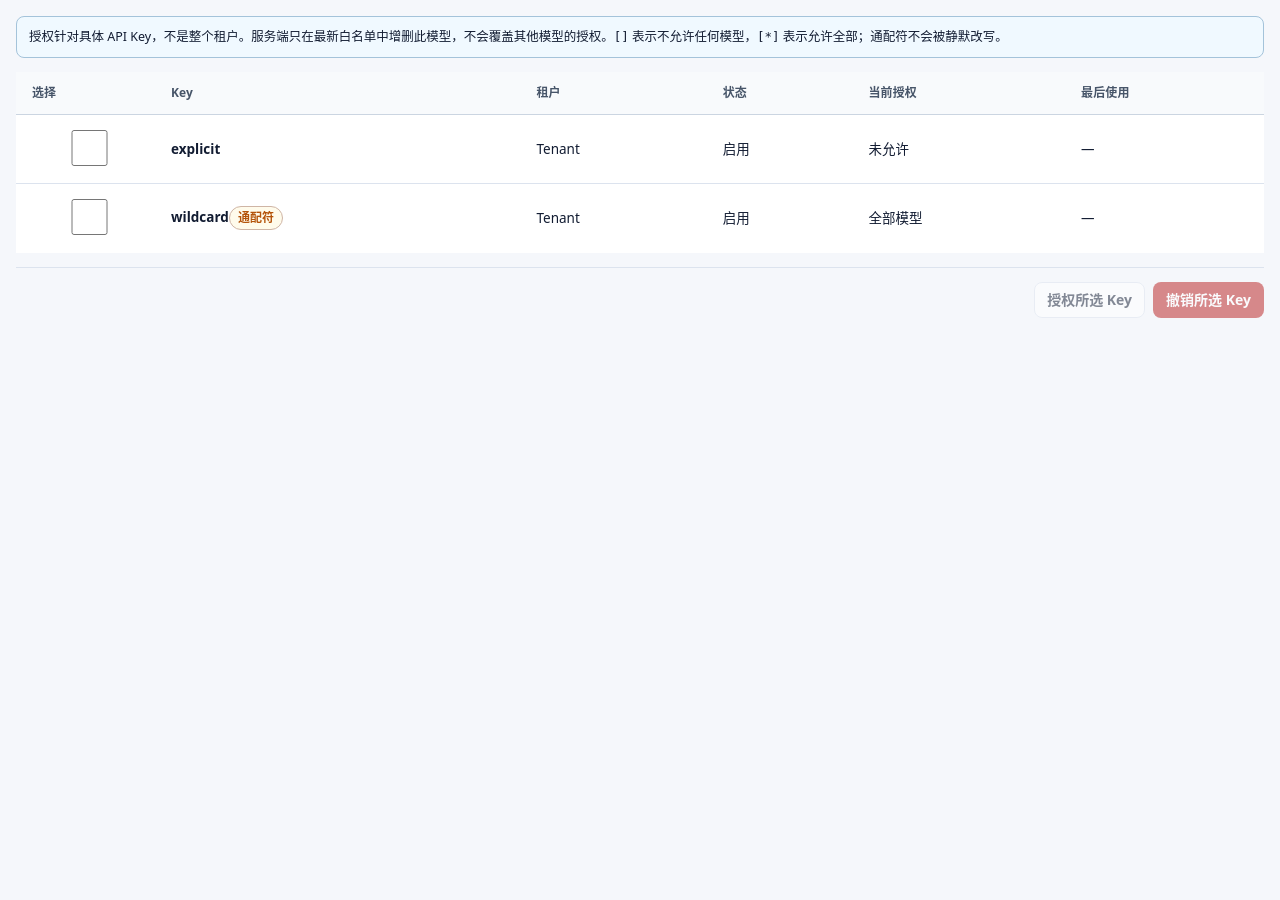
Test: ModelAuthorizationPanel › merges a model into one key and reports wildcard refusal per key
Check: the text "explicit" is shown, box [171,140,220,158]
Click the checkbox named "选择 Key explicit" at (90, 148), box [36,130,143,166]
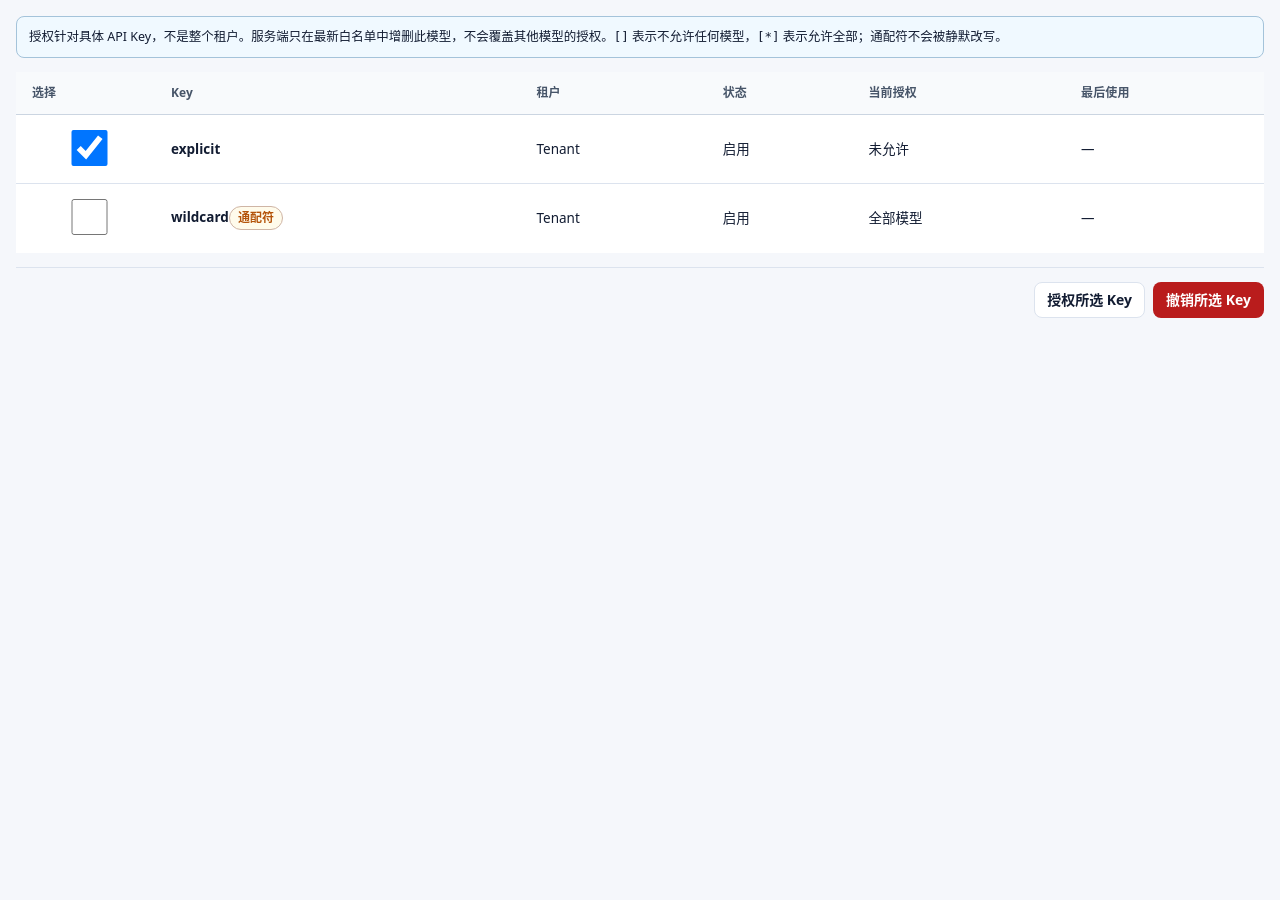
Click the button "授权所选 Key" at (1090, 300), box [1034,282,1145,318]
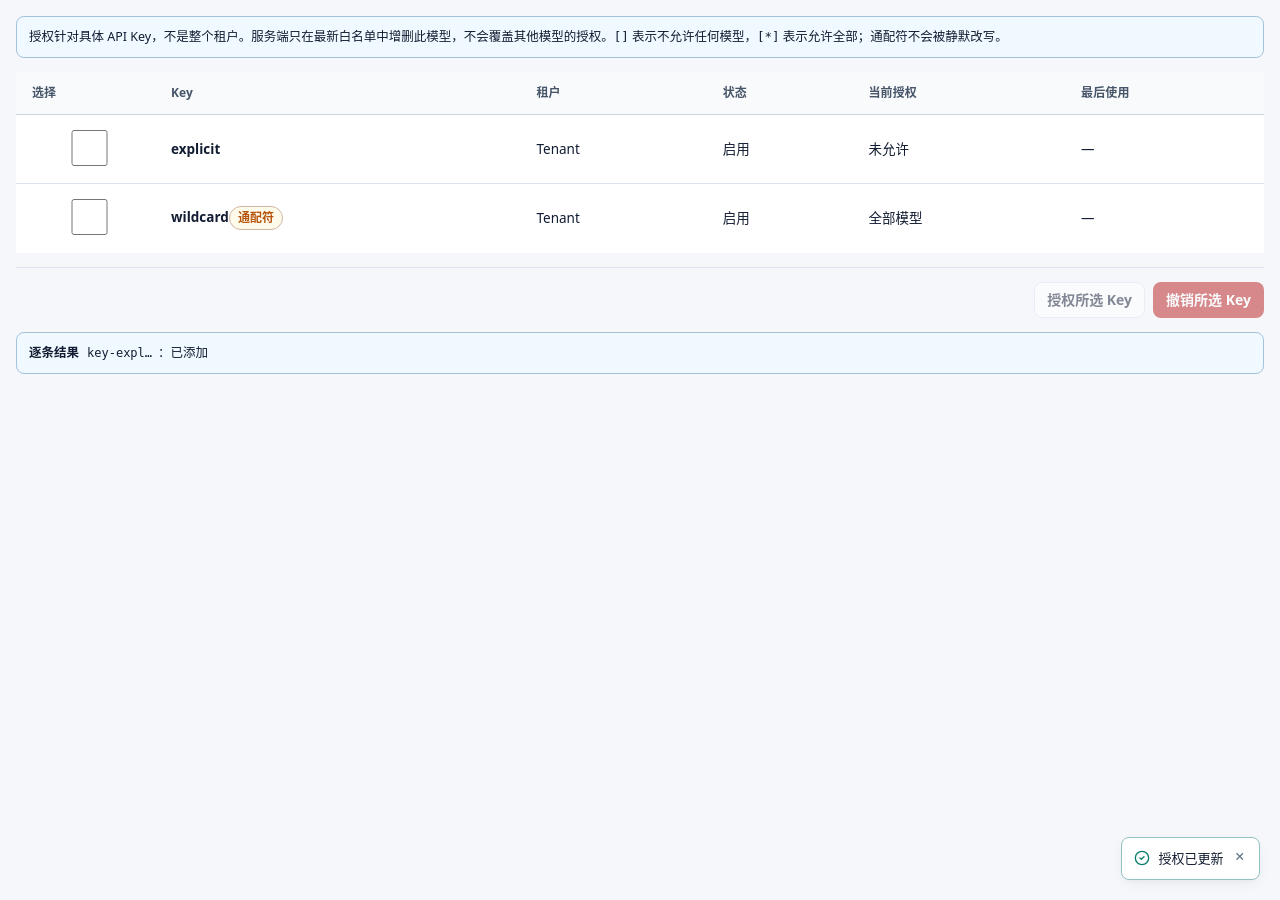
Check: the list item "key-expl… ：已添加" is shown, box [87,342,208,363]
Click the checkbox named "选择 Key wildcard" at (90, 217), box [36,199,143,235]
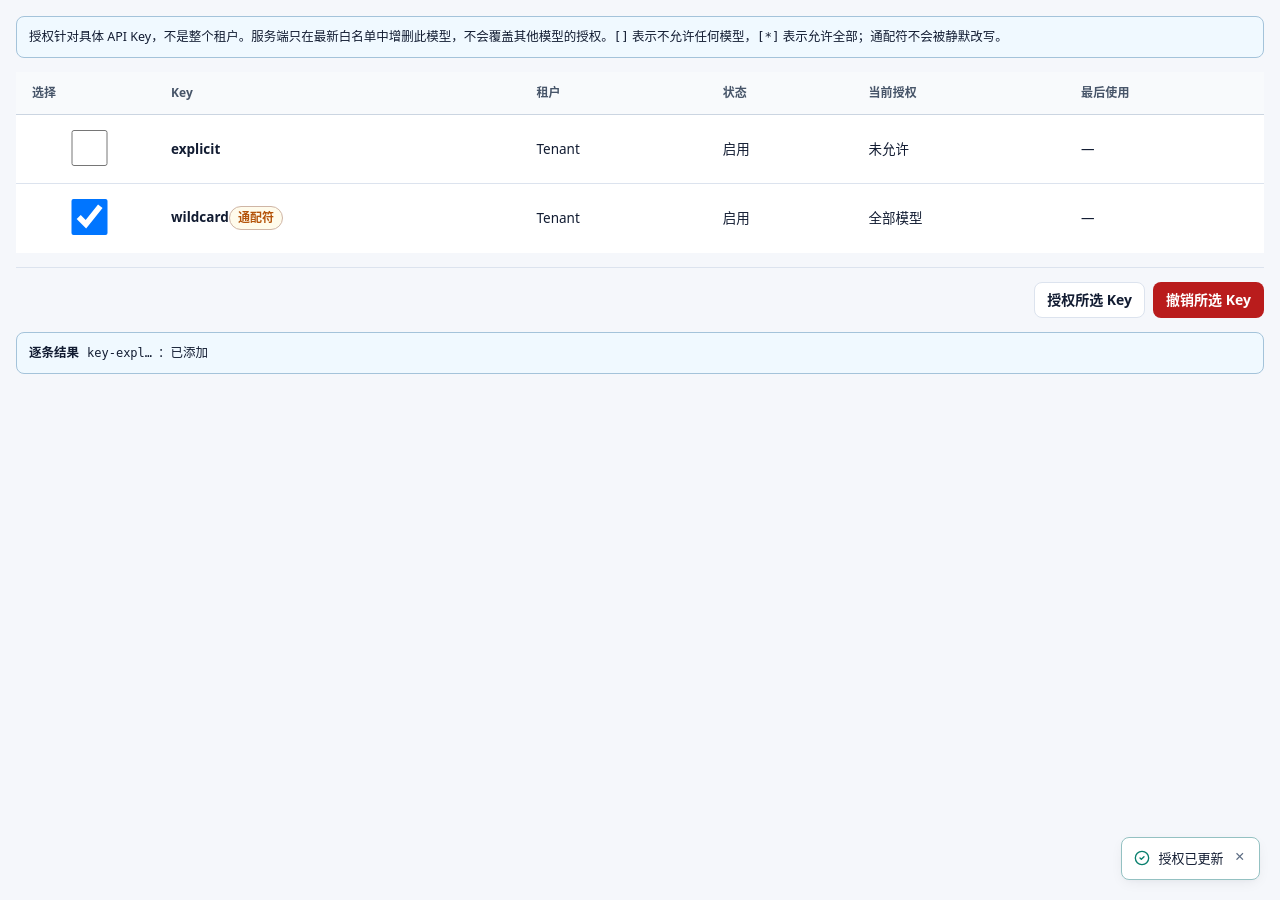
Click the button "撤销所选 Key" at (1209, 300), box [1153,282,1264,318]
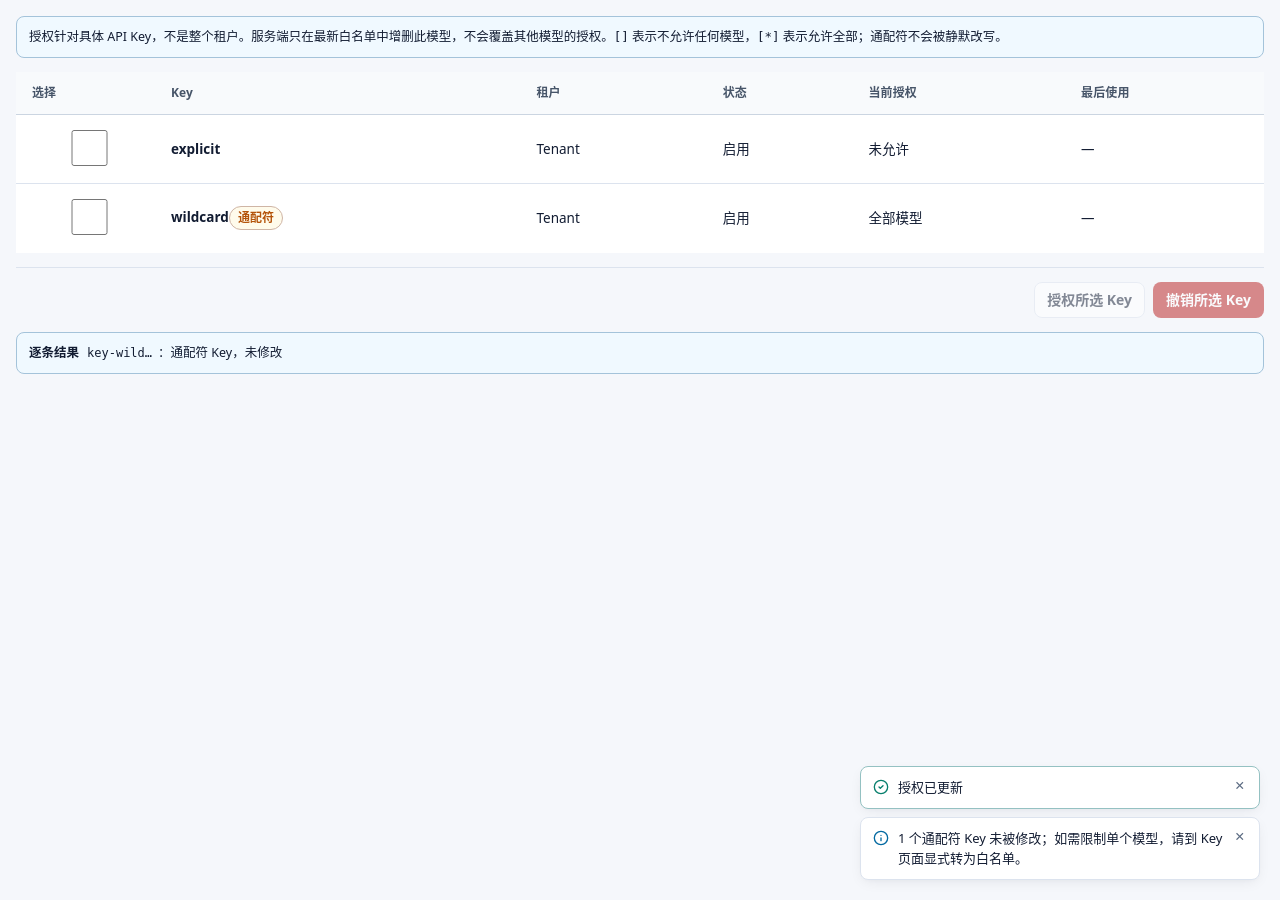
Check: the list item "key-wild… ：通配符 Key，未修改" is shown, box [87,342,282,363]
